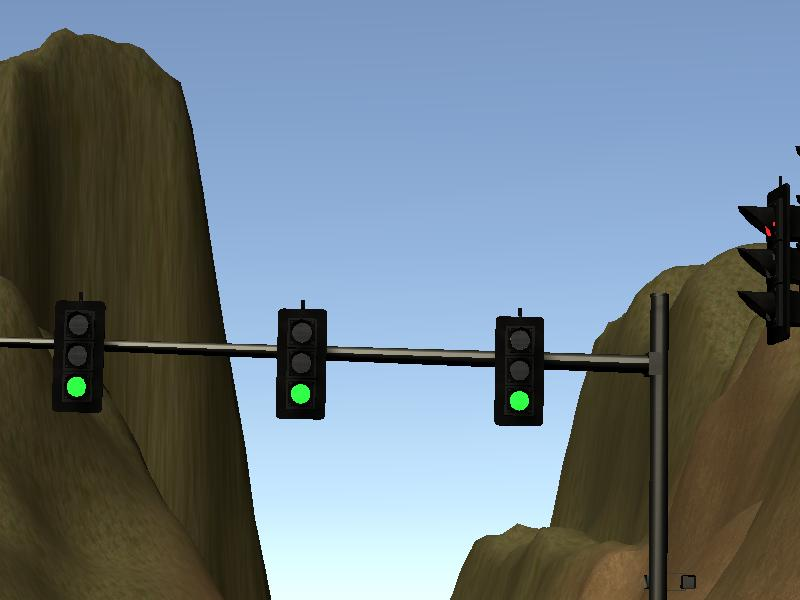green: (53, 300, 105, 412), (276, 308, 327, 420), (494, 313, 544, 427)
